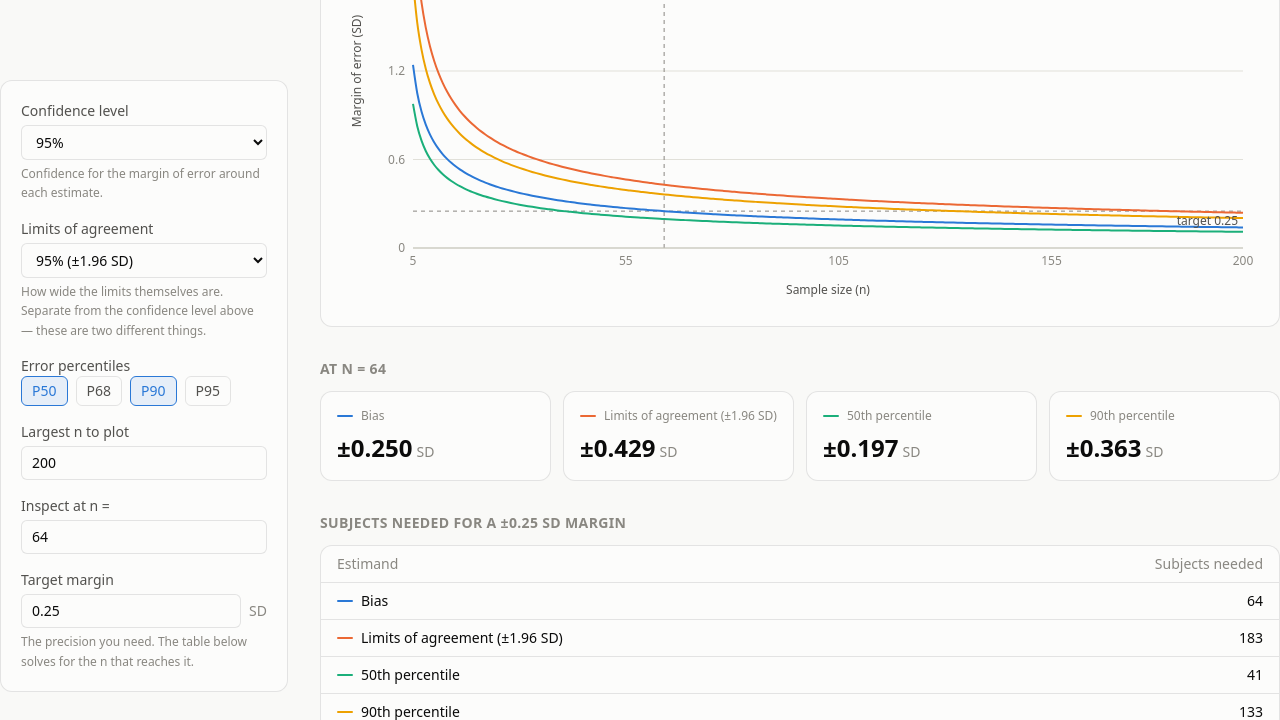
Test: PrecisionPage › says so when a target margin is unreachable in range
The width and height of the screenshot is (1280, 720).
(page scrolled)
Replace the text in the number field labelled "Target margin" with "0.01". click: [131, 612]
box: [21, 594, 241, 628]
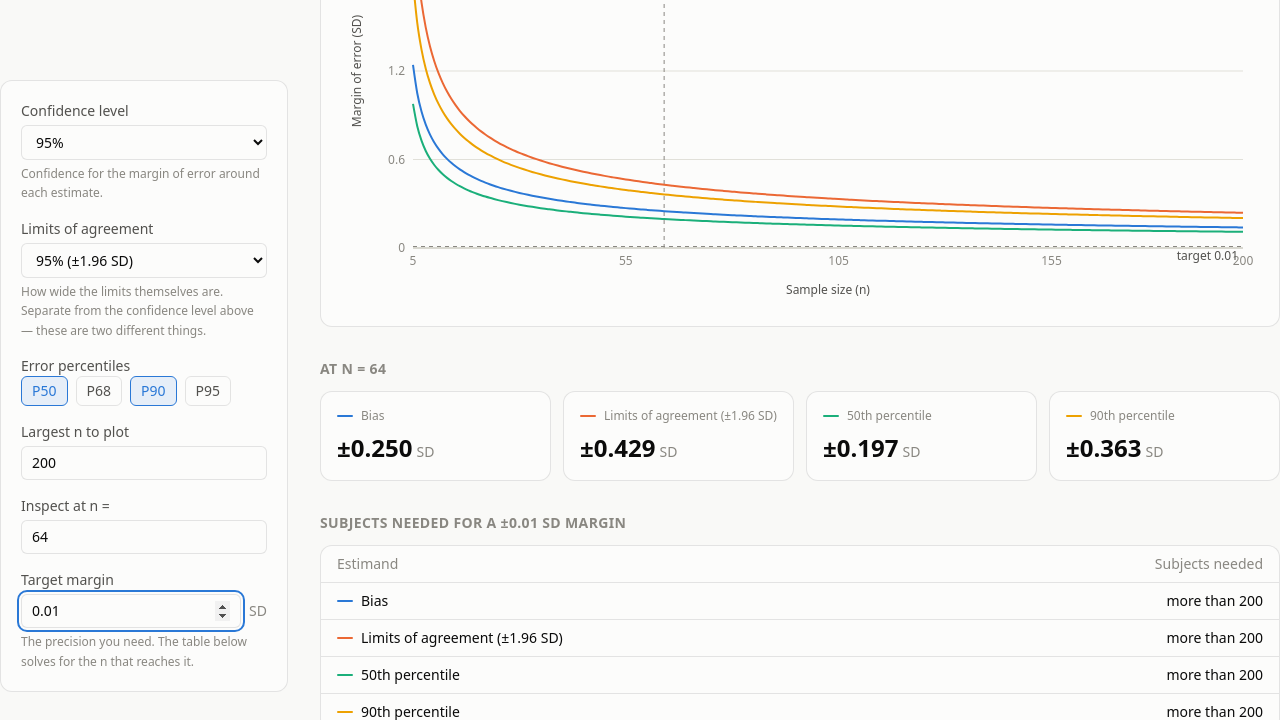
Expected: the 1st text "more than 200" is shown, [942, 583, 1279, 619]
